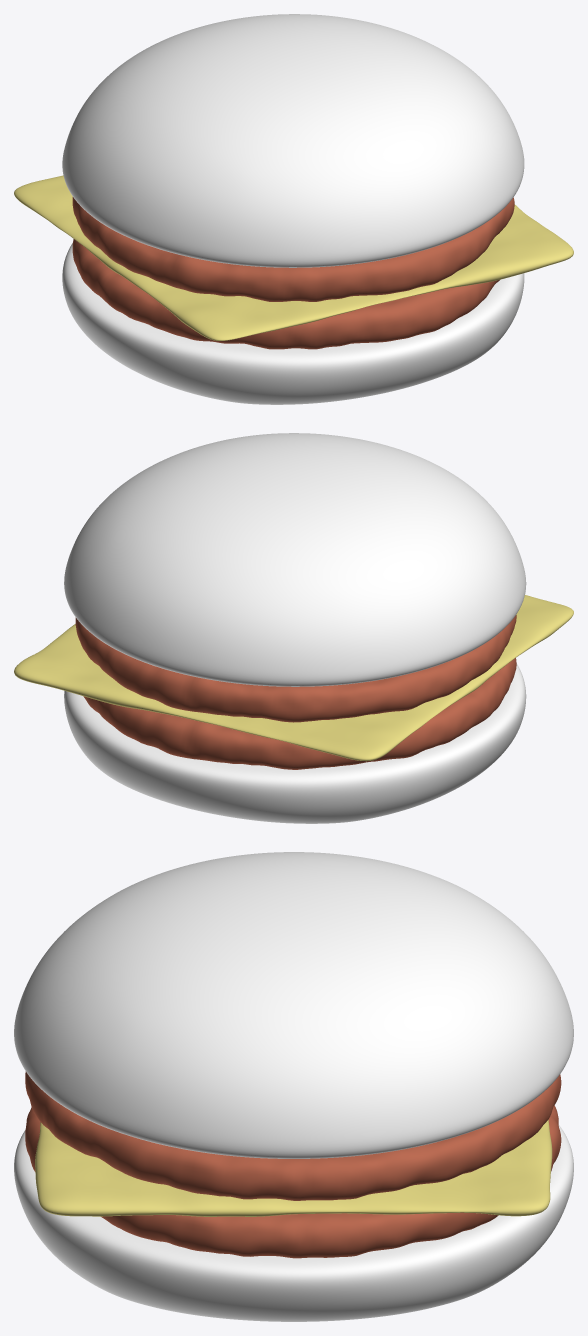
Rendered from burger.gltf.
The picture shows the model from 3 angles, top to bottom: view 1: azimuth 30°, elevation 25°; view 2: azimuth 150°, elevation 25°; view 3: azimuth 270°, elevation 25°; orthographic projection. The views are drawn at different scales.
Parts seen in each view (by area): view 1: Bun_top, Bun_bottom, cheese, Patty_top, Patty_bottom; view 2: Bun_top, Bun_bottom, cheese, Patty_top, Patty_bottom; view 3: Bun_top, Bun_bottom, Patty_top, cheese, Patty_bottom.
Part boxes in pixels (x1,y1,x2,y2): Bun_top: (62,14,524,267); Bun_bottom: (62,243,524,404); cheese: (14,175,573,340); Patty_top: (72,197,514,301); Patty_bottom: (72,239,499,349); Bun_top: (64,433,526,686); Bun_bottom: (64,663,526,823); cheese: (14,595,573,761); Patty_top: (75,615,516,722); Patty_bottom: (83,658,516,769); Bun_top: (14,852,573,1158); Bun_bottom: (14,1125,573,1321); Patty_top: (25,1071,561,1200); cheese: (35,1119,552,1216); Patty_bottom: (25,1105,561,1258).
Bounding box in the file's own units: 1.97 × 1.25 × 1.97.
